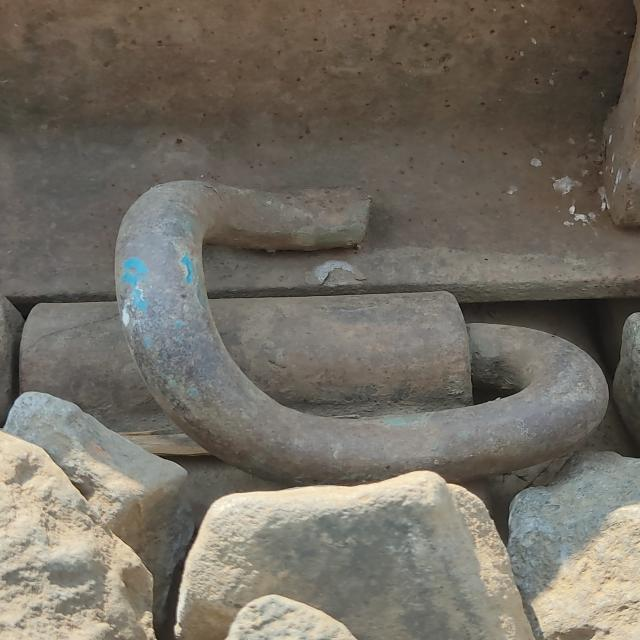track_bolt: (104, 174, 616, 490)
